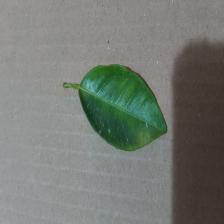greening: (78, 60, 169, 155)
